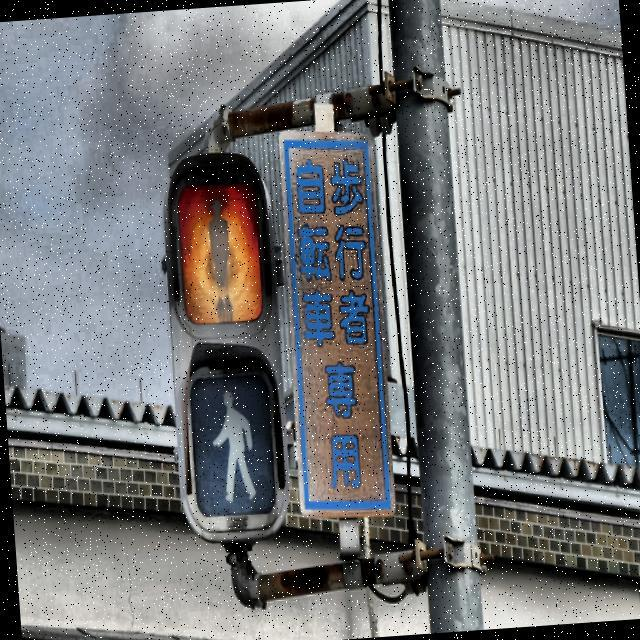red_light: (200, 190, 238, 324)
